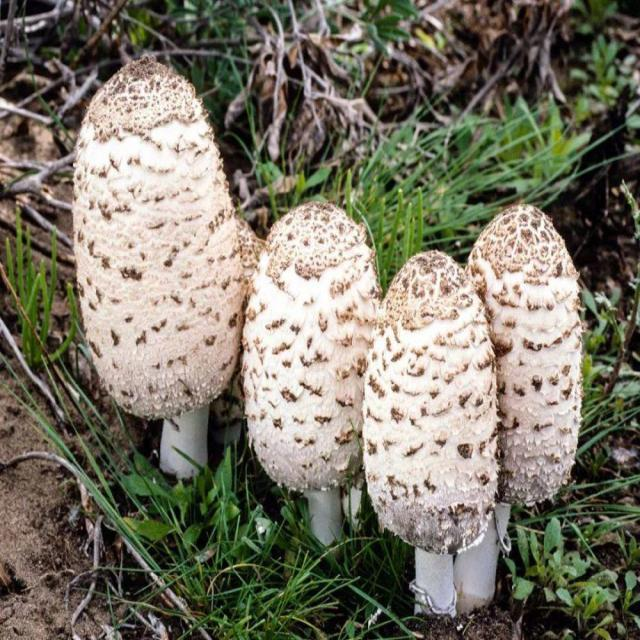Coprinus comatus: (75, 62, 237, 479), (362, 251, 498, 615), (245, 204, 376, 547), (471, 204, 584, 599)
